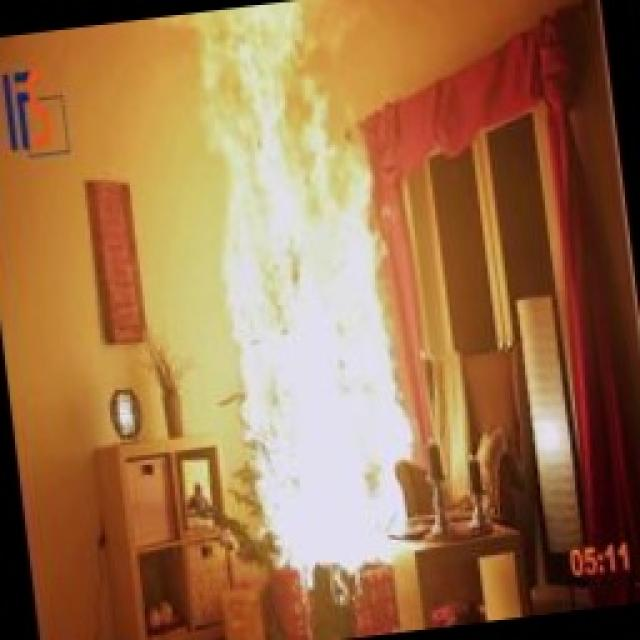fire: (155, 0, 490, 598)
